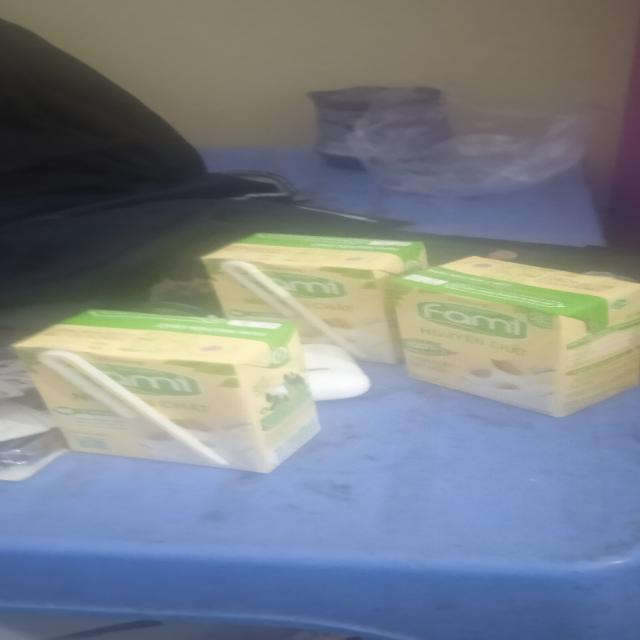Fami: (14, 310, 323, 475), (388, 256, 639, 418), (201, 232, 429, 363)
